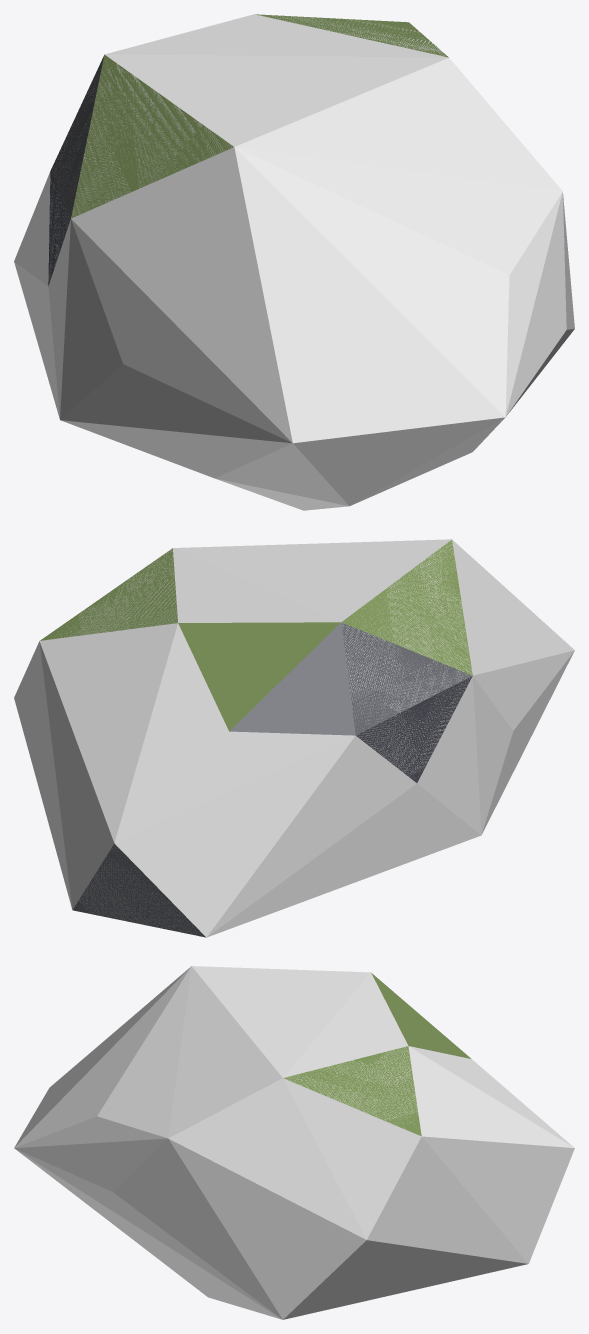
The model's file is rock_valley_0.glb.
The picture shows the model from 3 angles, top to bottom: view 1: azimuth 30°, elevation 25°; view 2: azimuth 150°, elevation 25°; view 3: azimuth 270°, elevation 25°; orthographic projection. The views are drawn at different scales.
Visible parts, largest first — view 1: rock_valley_0_col, rock_valley_0; view 2: rock_valley_0_col, rock_valley_0; view 3: rock_valley_0_col, rock_valley_0.
Part boxes in pixels (x1=…): rock_valley_0_col: x1=14, y1=14, x2=574, y2=510; rock_valley_0: x1=48, y1=14, x2=448, y2=285; rock_valley_0_col: x1=14, y1=539, x2=574, y2=937; rock_valley_0: x1=40, y1=539, x2=472, y2=937; rock_valley_0_col: x1=14, y1=966, x2=574, y2=1319; rock_valley_0: x1=283, y1=973, x2=471, y2=1136.
Size of what is drawn, in the model's own units: 2.05 by 1.66 by 2.83.
